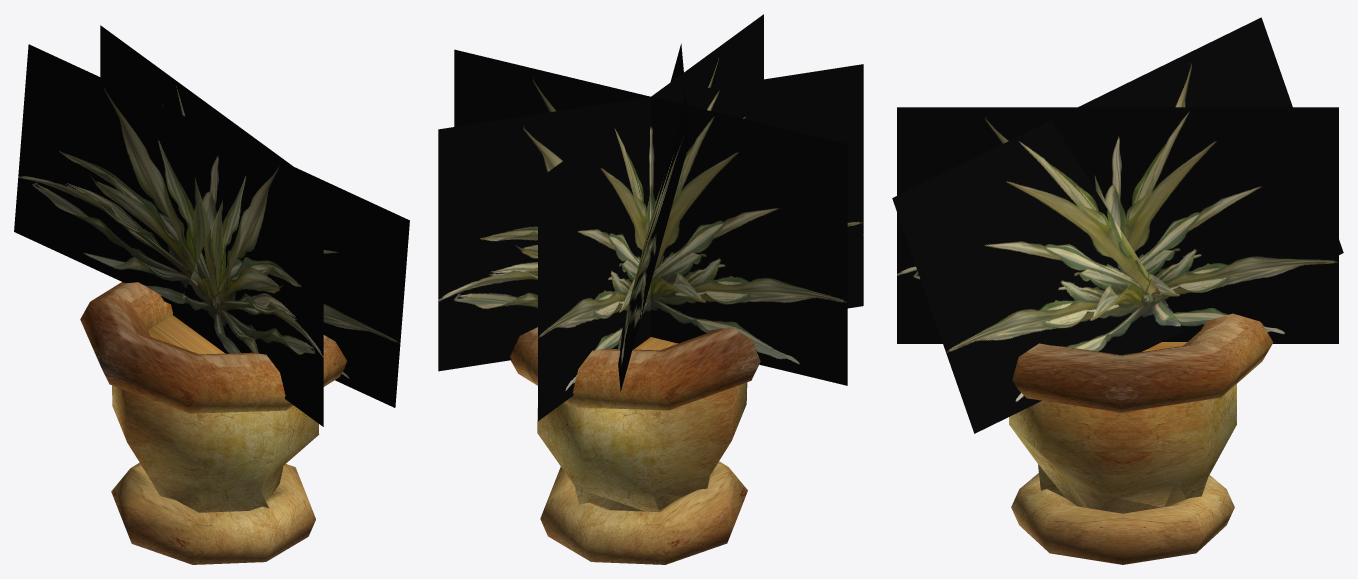
The model's file is pot.obj.
The picture shows the model from 3 angles, left to right: view 1: azimuth 30°, elevation 25°; view 2: azimuth 150°, elevation 25°; view 3: azimuth 270°, elevation 25°; orthographic projection. The views are drawn at different scales.
Visible parts, largest first — view 1: plant, body; view 2: plant, body; view 3: plant, body.
Boxes of the visible parts, box(x1,y1,x2,y2) form: plant: box(14, 25, 409, 426); body: box(80, 282, 346, 564); plant: box(438, 14, 863, 420); body: box(510, 327, 760, 564); plant: box(892, 17, 1343, 433); body: box(1009, 313, 1273, 564).
Size of what is drawn, in the model's own units: 59.77 by 68.62 by 61.07.
Materials: 2 (2 with a texture image).
